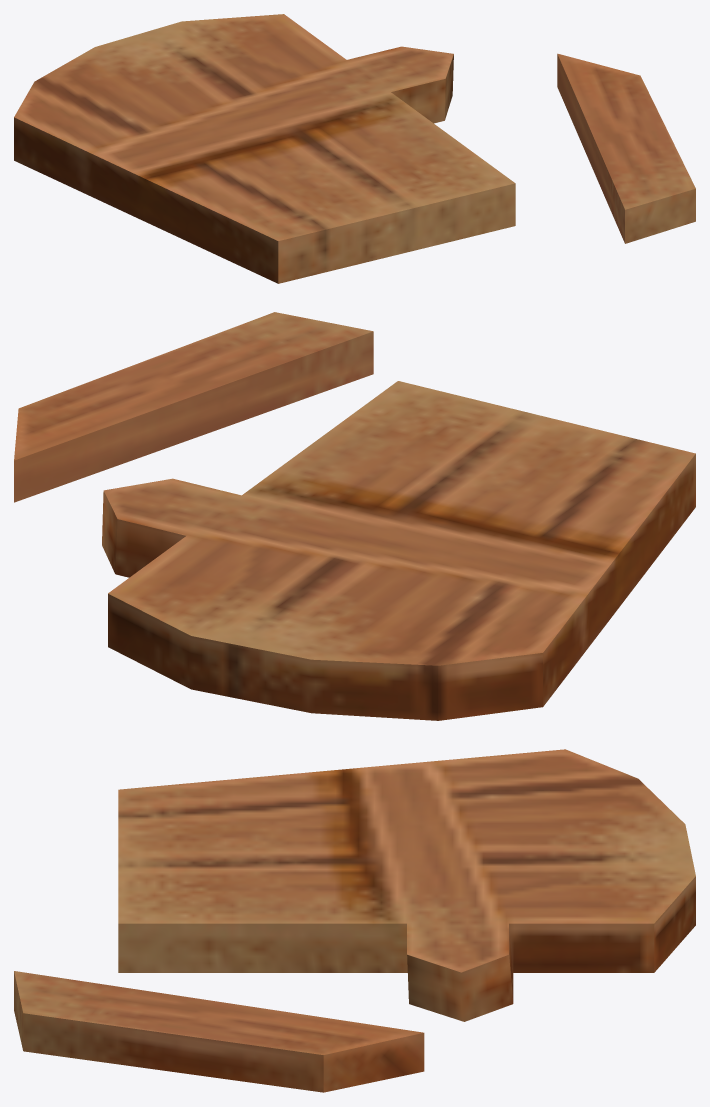
The model's file is muban01.FBX.
3 views of the same model, one above another, from view 1: azimuth 30°, elevation 25°; view 2: azimuth 150°, elevation 25°; view 3: azimuth 270°, elevation 25° (orthographic). The views are drawn at different scales.
Visible parts, largest first — view 1: muban; view 2: muban; view 3: muban.
Part boxes in pixels (x1,y1,x2,y2): muban: (14, 14, 695, 283); muban: (14, 312, 695, 720); muban: (14, 749, 695, 1092).
Bounding box in the file's own units: 74.07 × 5.95 × 72.34.
